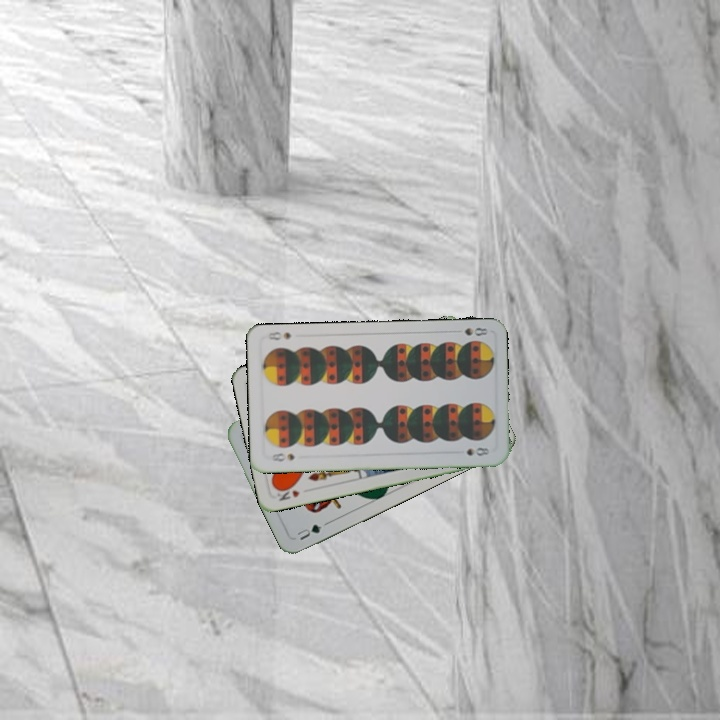GU: (293, 520, 325, 543)
HK: (275, 486, 302, 503)
S8: (450, 323, 490, 338), (268, 449, 297, 464)
